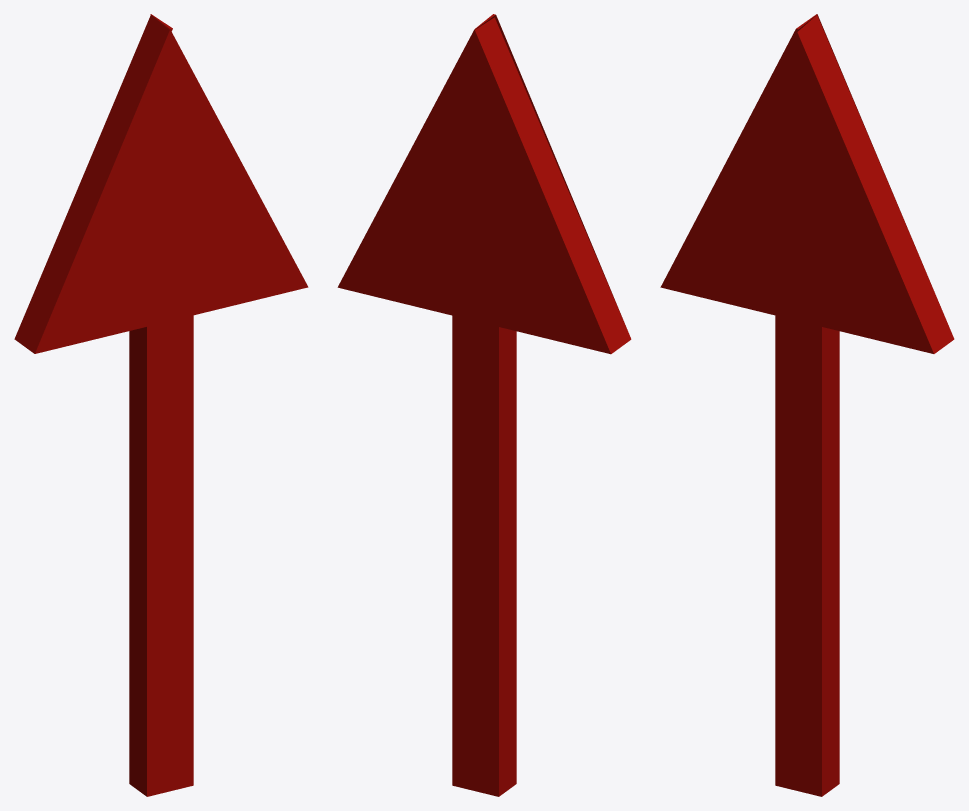
Rendered from ArrowRed.glb.
3 renders of one model, left to right at view 1: azimuth 30°, elevation 25°; view 2: azimuth 150°, elevation 25°; view 3: azimuth 330°, elevation 25°, orthographic.
Visible parts, largest first — view 1: Cube, Cube.001; view 2: Cube, Cube.001; view 3: Cube, Cube.001.
Part boxes in pixels (left/top/right/bottom): Cube: left=14, top=14, right=308, bottom=353; Cube.001: left=129, top=315, right=193, bottom=796; Cube: left=337, top=14, right=631, bottom=354; Cube.001: left=452, top=315, right=516, bottom=796; Cube: left=660, top=14, right=954, bottom=353; Cube.001: left=775, top=315, right=839, bottom=796.
Size of the model in its own units: 1.24 by 3.31 by 0.16.
